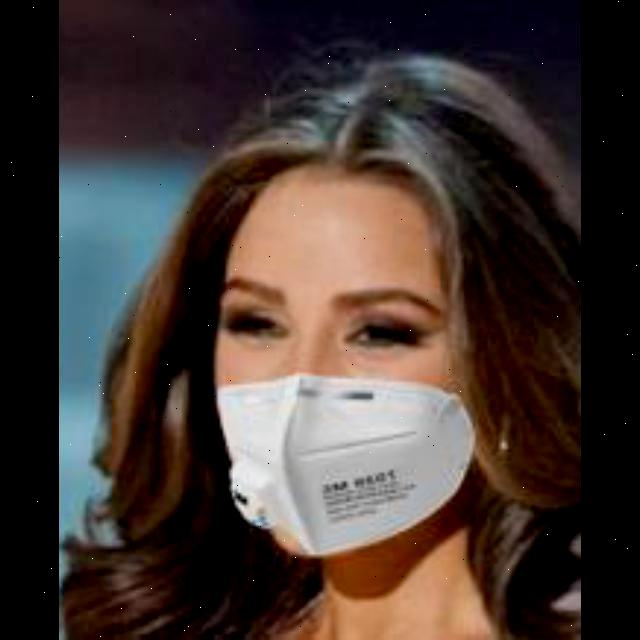suspicion: (201, 70, 559, 542)
